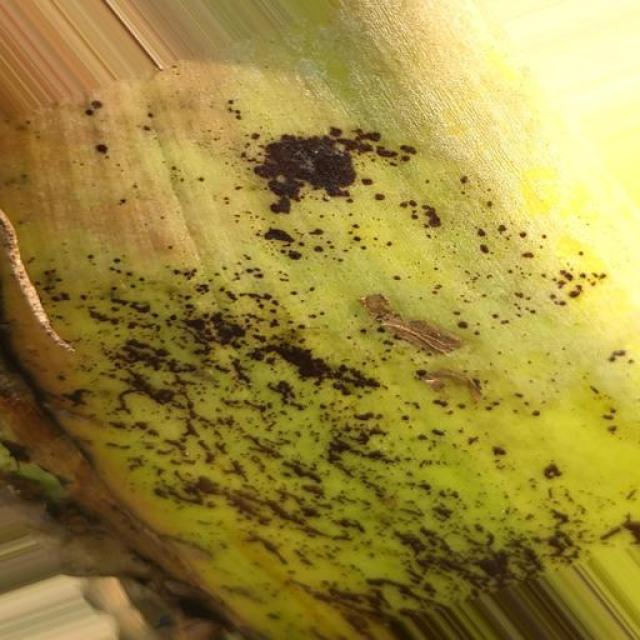Anthracnose: (4, 53, 640, 584)
